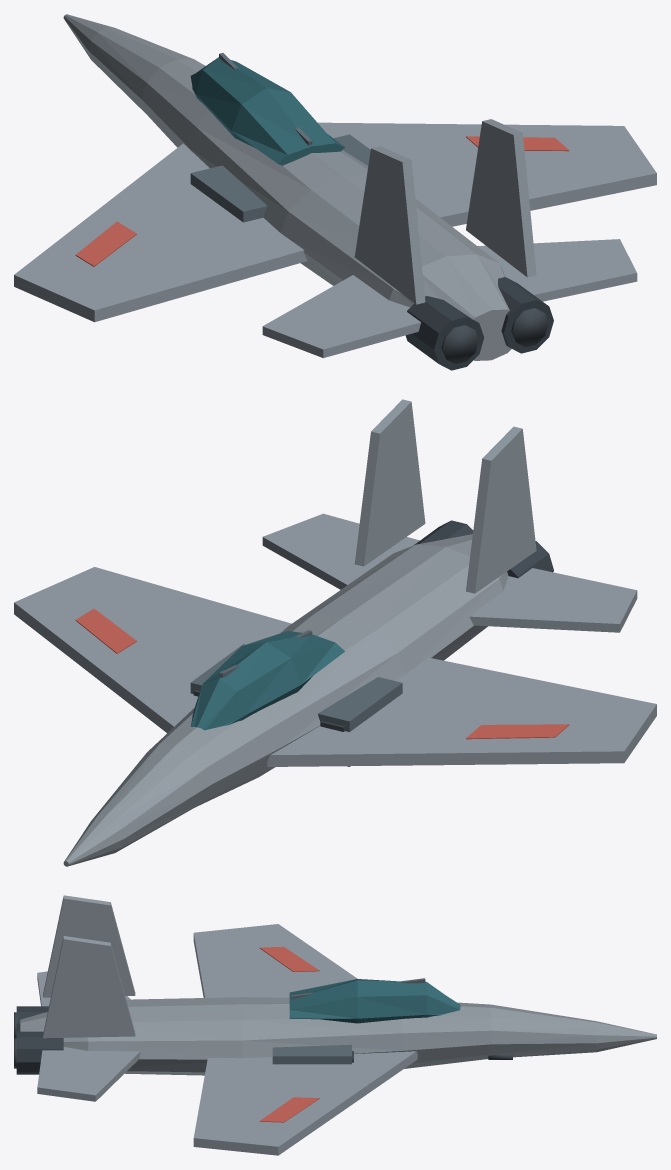
The model's file is EnemyFighter.fbx.
The picture shows the model from 3 angles, top to bottom: view 1: azimuth 30°, elevation 25°; view 2: azimuth 150°, elevation 25°; view 3: azimuth 270°, elevation 25°; orthographic projection. The views are drawn at different scales.
Visible parts, largest first — view 1: EnemyFighter_Visual; view 2: EnemyFighter_Visual; view 3: EnemyFighter_Visual.
Part boxes in pixels (x1,y1,x2,y2): EnemyFighter_Visual: (14,14,656,370); EnemyFighter_Visual: (14,399,656,866); EnemyFighter_Visual: (14,895,656,1155).
Size of the model in its own units: 280 by 89 by 341.
